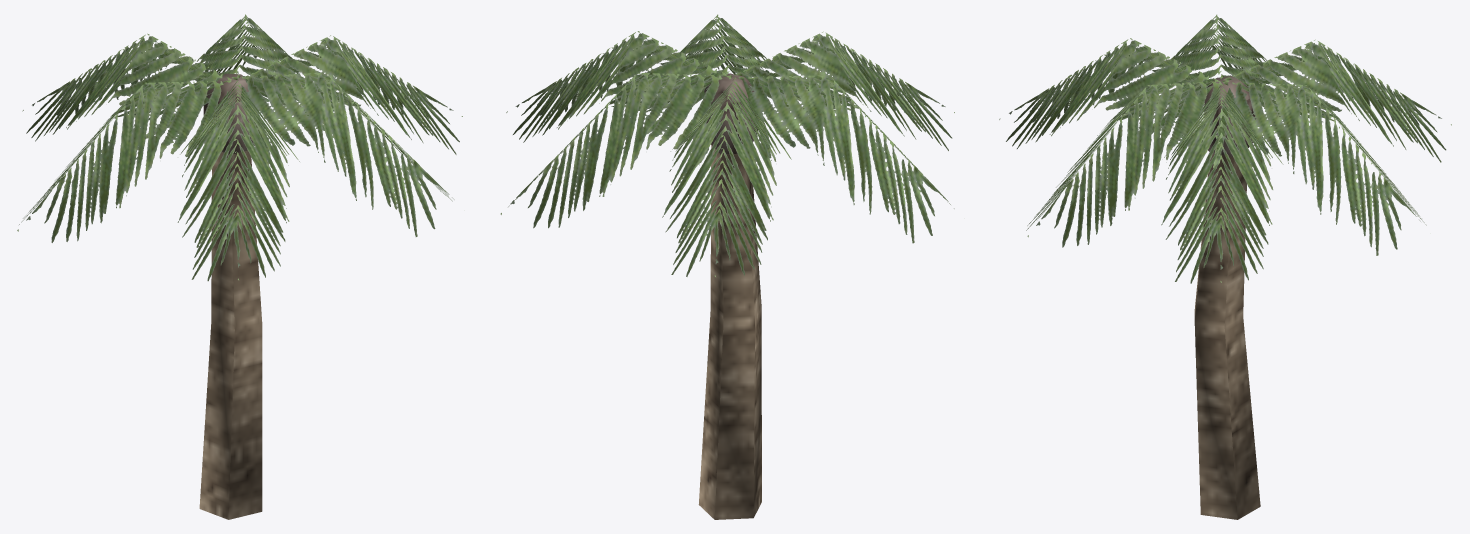
Rendered from palm_0.dae.
3 renders of one model, left to right at view 1: azimuth 30°, elevation 25°; view 2: azimuth 150°, elevation 25°; view 3: azimuth 270°, elevation 25°, orthographic.
Visible parts, largest first — view 1: palm_0; view 2: palm_0; view 3: palm_0.
Boxes of the visible parts, <box> form: palm_0: <box>17,14,462,519</box>; palm_0: <box>500,14,954,519</box>; palm_0: <box>999,14,1451,519</box>.
Size of the model in its own units: 4.4 by 3.84 by 4.13.
Materials: 3 (3 with a texture image).
